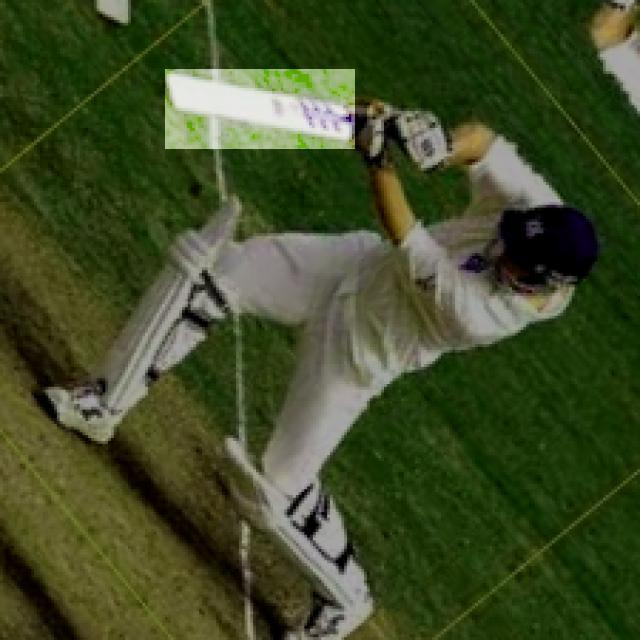bat: (165, 71, 356, 148)
toe: (166, 66, 184, 123)
